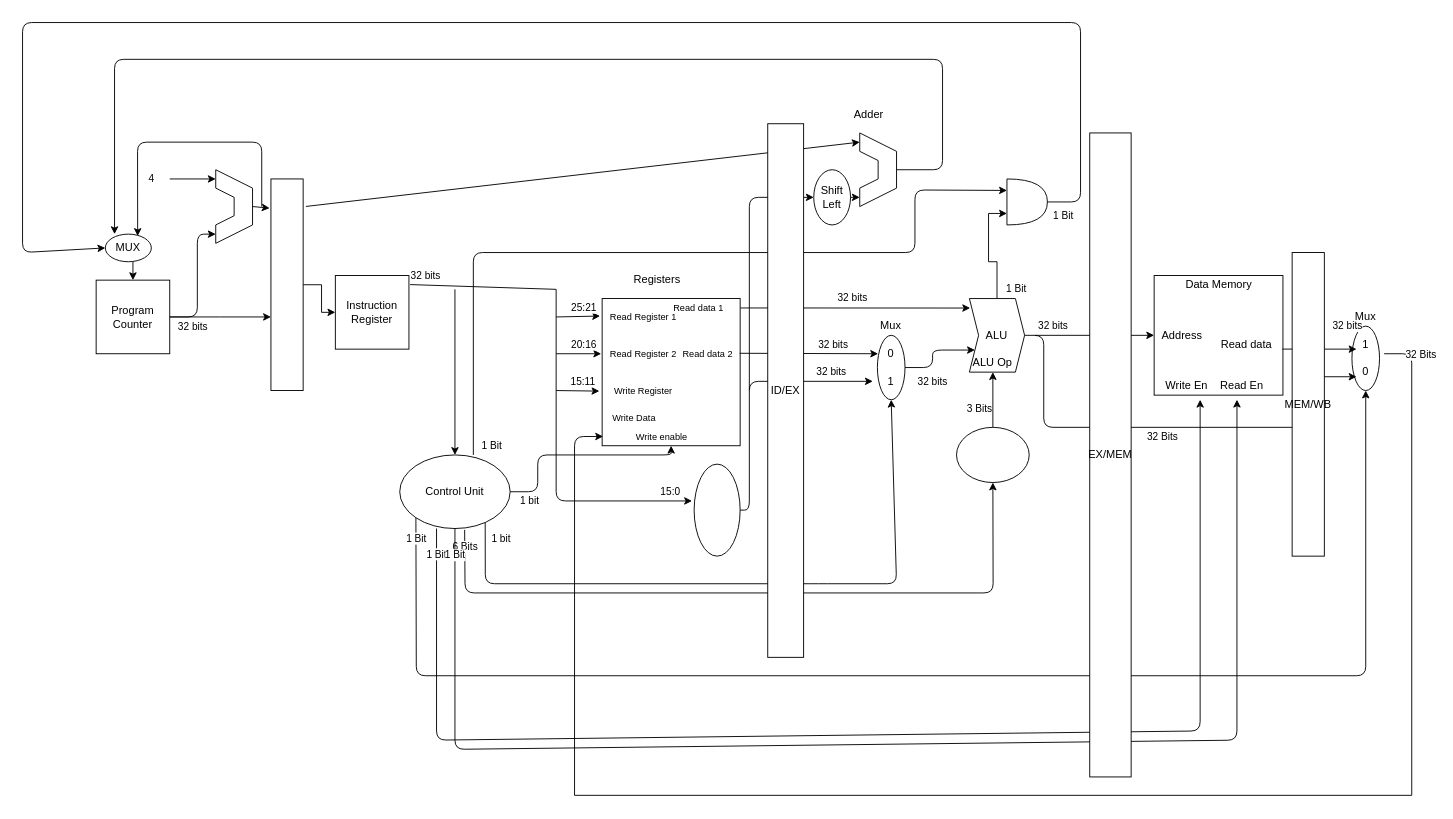
Some shapes in this 1453 by 819 pixel diagram are drawn without their labels. The shapes that lost their labels are listed below. From the top down, each one's box as (x1, y1, x2, y2) in pixels, then its label:
(1006, 178, 1047, 225): AND
(270, 178, 303, 391): IF/ID
(956, 426, 1029, 483): ALU Control
(693, 463, 740, 556): Sign extend
